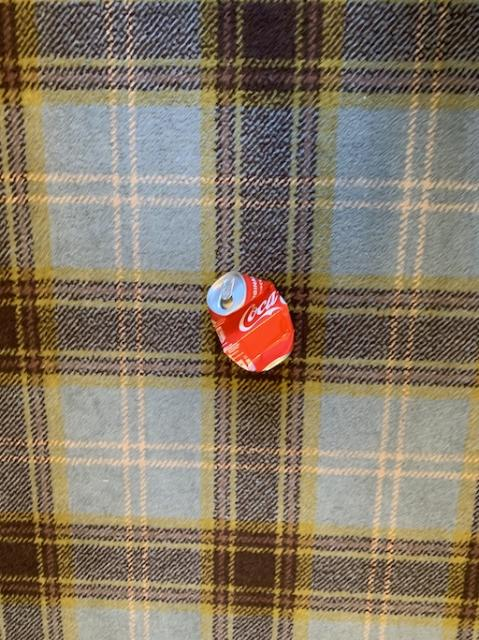metal: (206, 270, 293, 370)
